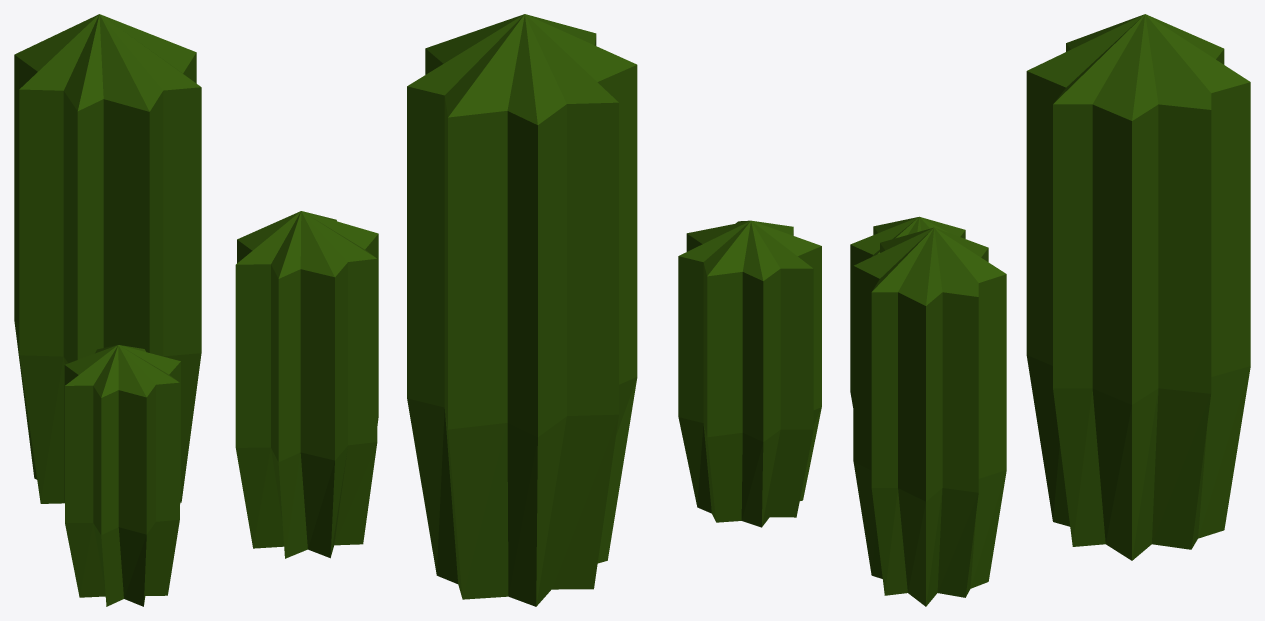
The model's file is obj_cactus_4_0.obj.
The picture shows the model from 3 angles, left to right: view 1: azimuth 30°, elevation 25°; view 2: azimuth 150°, elevation 25°; view 3: azimuth 270°, elevation 25°; orthographic projection. The views are drawn at different scales.
Size of the model in its own units: 1.85 by 2.66 by 1.9.
